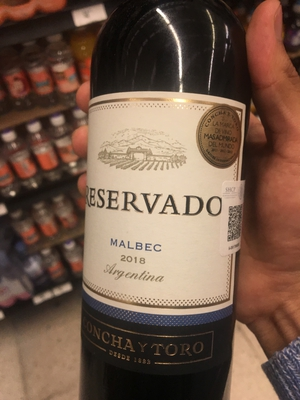reservado malbec: (62, 23, 249, 400)
